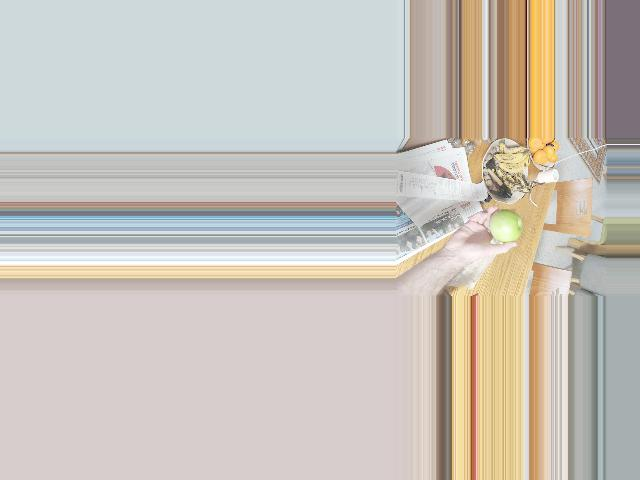apple: (488, 214, 522, 244)
